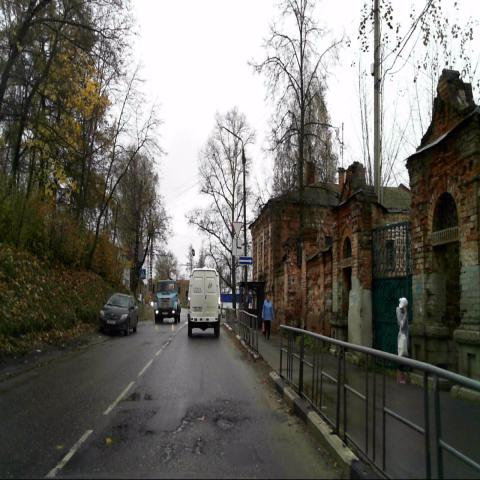2_4: (232, 222, 242, 240)
5_19_1: (140, 268, 146, 279)
8_13: (232, 240, 242, 256)
